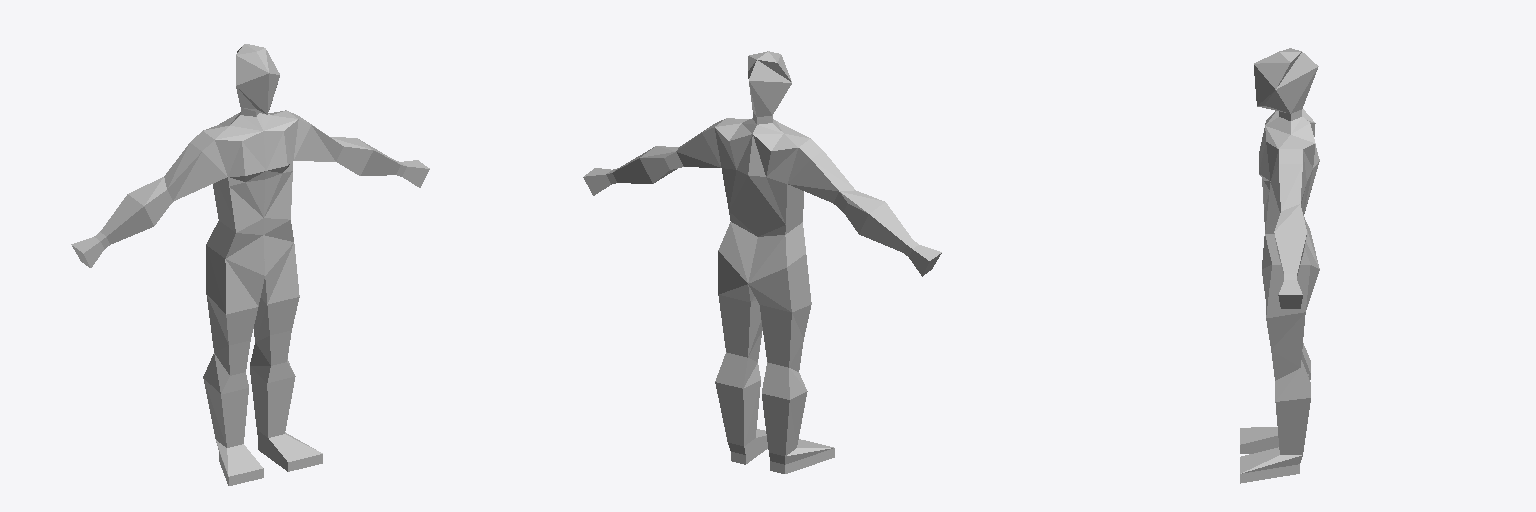
Rendered from Knight.obj.
The picture shows the model from 3 angles: view 1: azimuth 30°, elevation 25°; view 2: azimuth 150°, elevation 25°; view 3: azimuth 270°, elevation 25°; orthographic projection.
Parts seen in each view (by area): view 1: Cube; view 2: Cube; view 3: Cube.
Part boxes in pixels (x1,y1,x2,y2): Cube: (71, 44, 429, 485); Cube: (583, 51, 941, 473); Cube: (1240, 48, 1319, 483).
Bounding box in the file's own units: 4.13 × 4.65 × 0.8216.